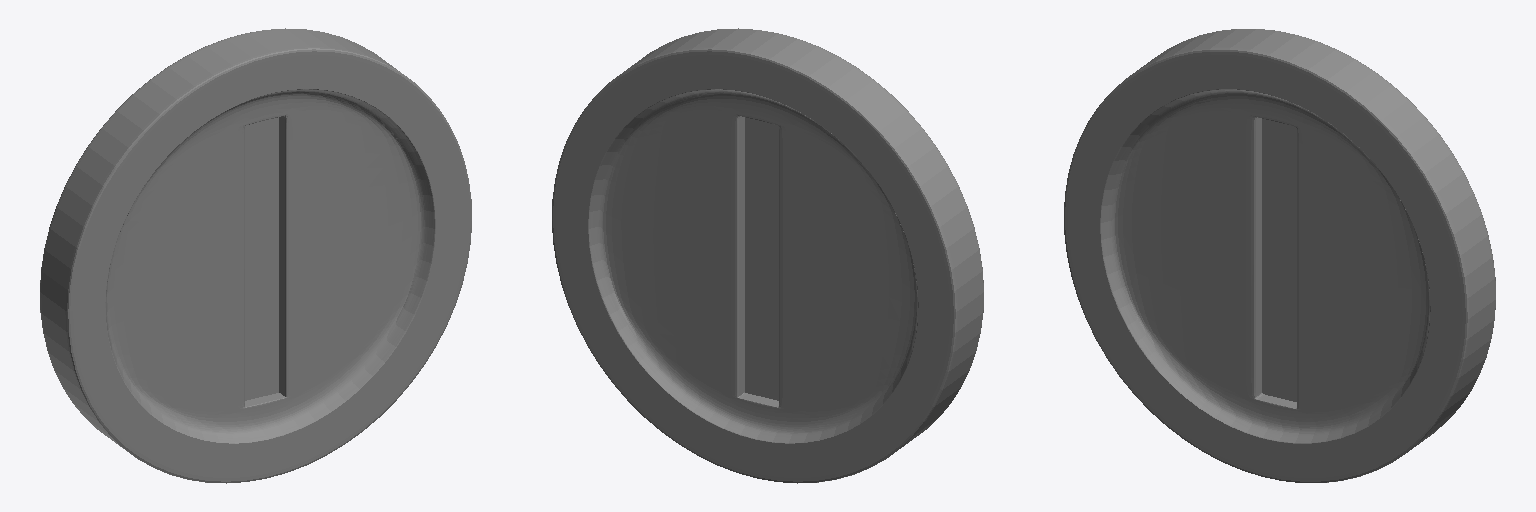
File: moneda.obj
3 renders of one model, left to right at view 1: azimuth 30°, elevation 25°; view 2: azimuth 150°, elevation 25°; view 3: azimuth 330°, elevation 25°, orthographic.
Parts seen in each view (by area): view 1: moneda; view 2: moneda; view 3: moneda.
Boxes of the visible parts, x1,y1,x2,y2 form: moneda: [40, 28, 471, 483]; moneda: [552, 28, 983, 483]; moneda: [1064, 29, 1495, 482].
Bounding box in the file's own units: 0.7284 × 0.7284 × 0.0908.